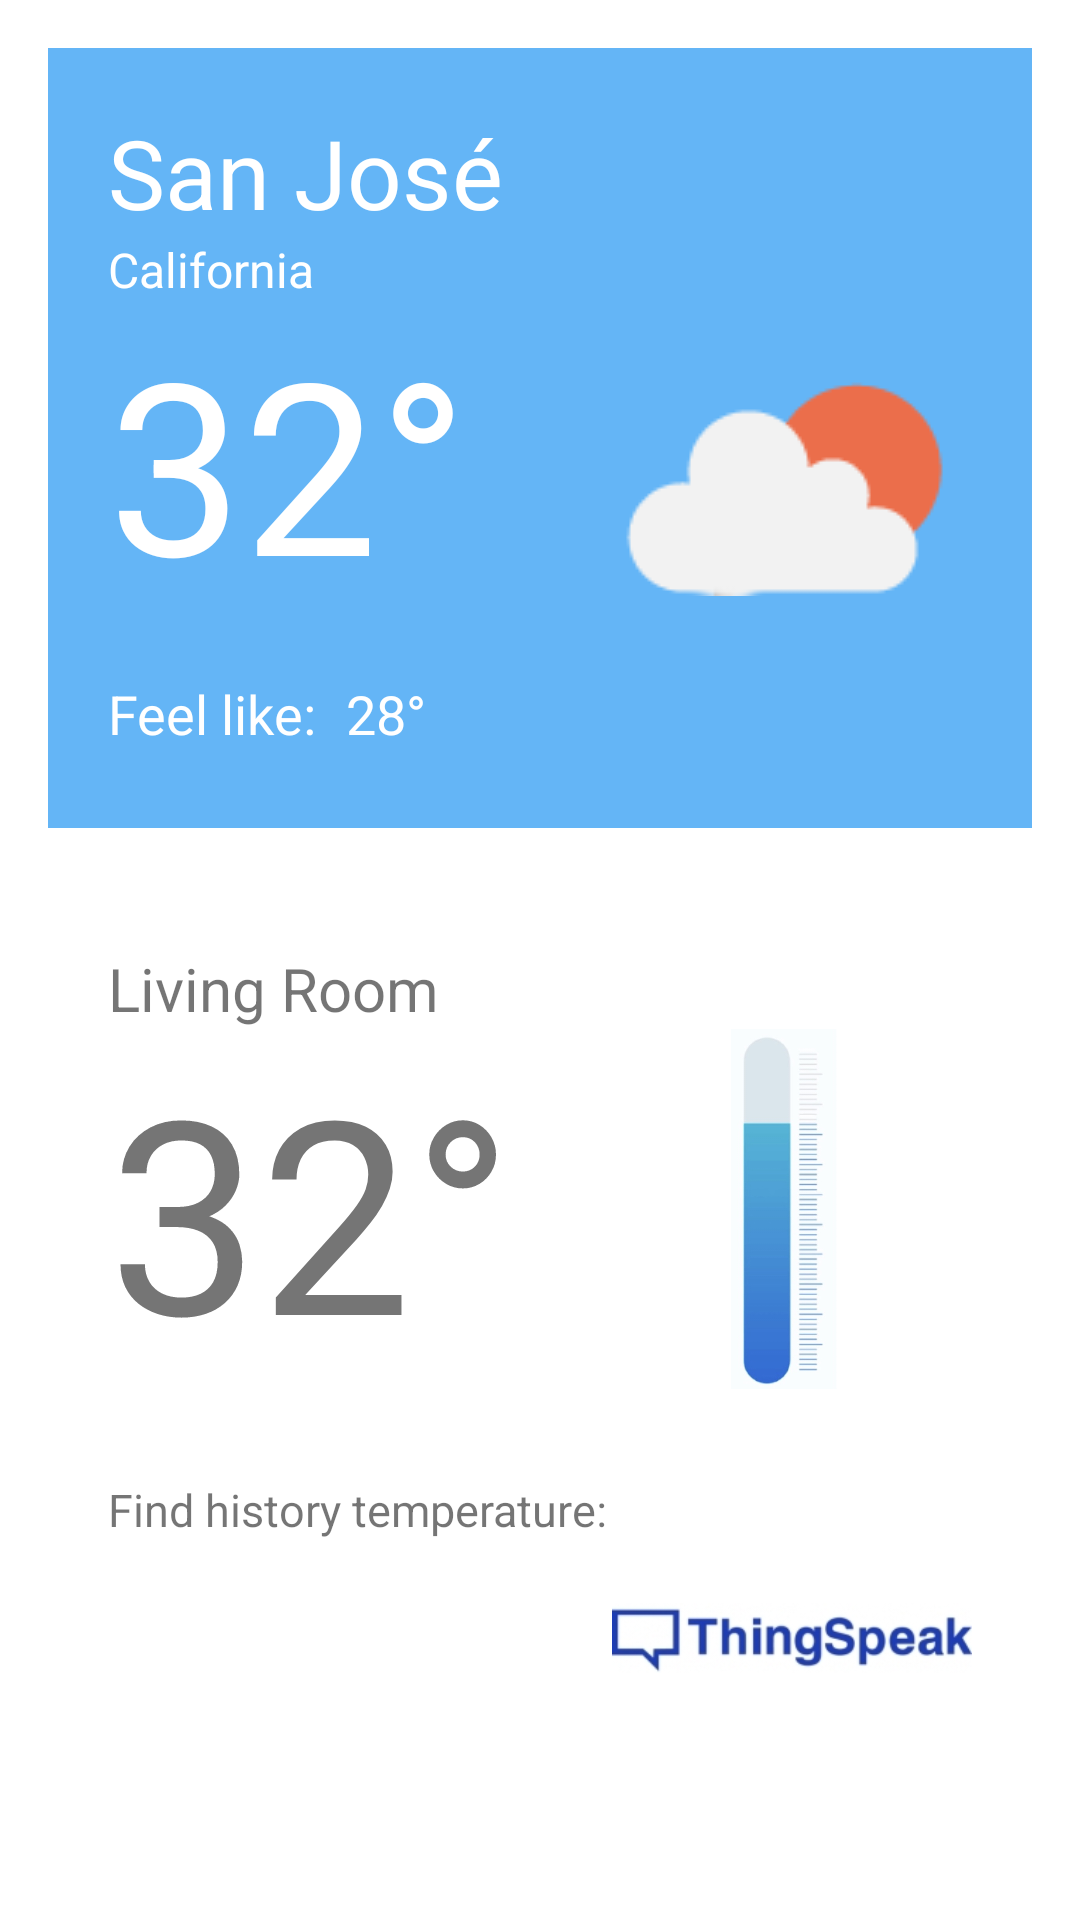

Icons on this 1080w x 1920h Android screen, each with the point to tap as point (x, y):
thermometer: point (783, 1211)
weather: point (785, 489)
